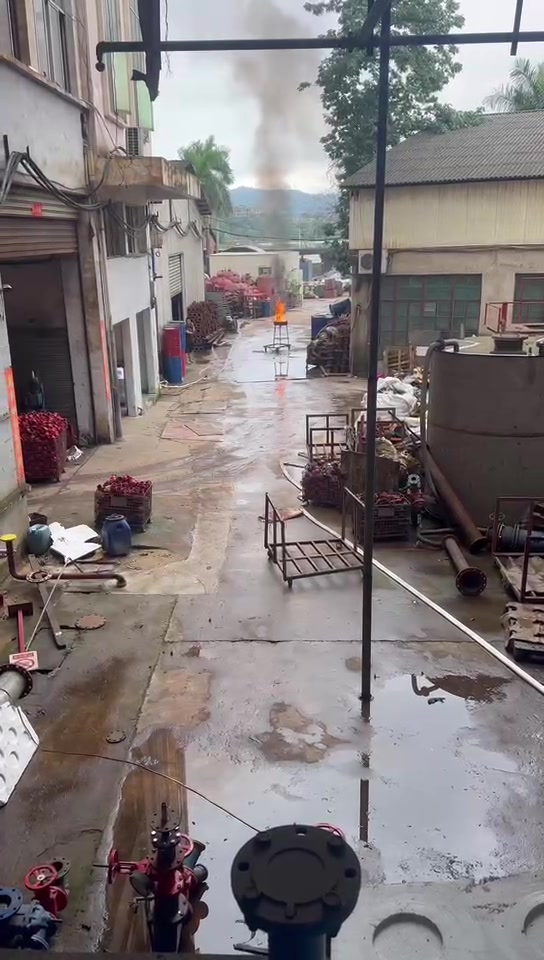fire: (273, 297, 287, 320)
